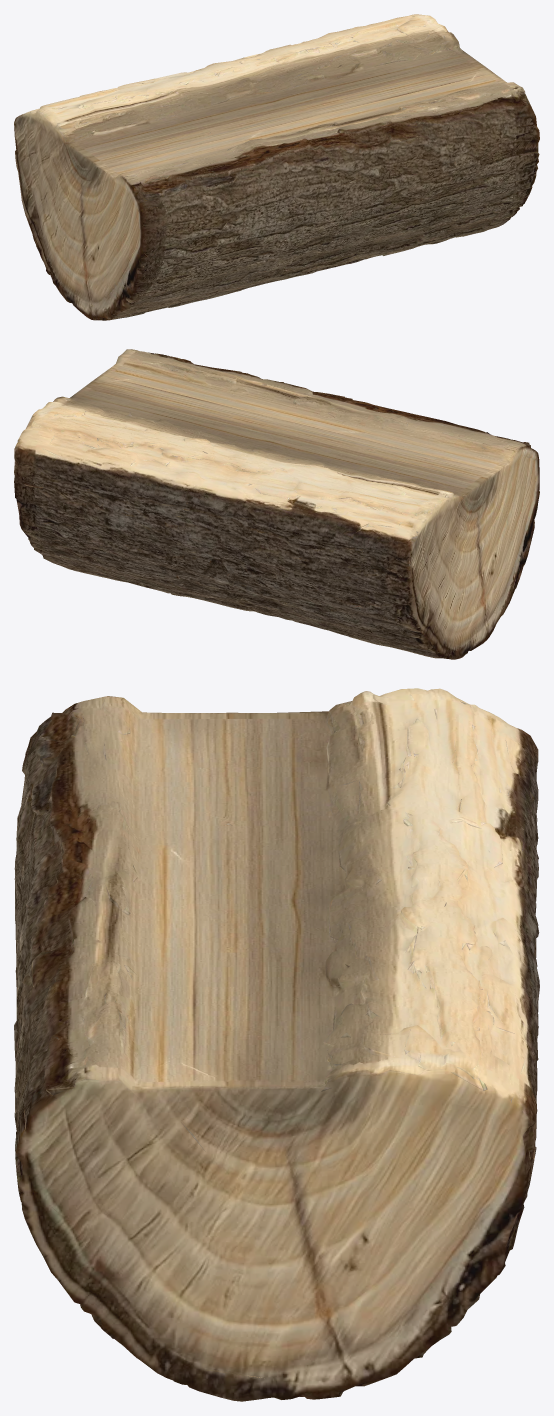
The model's file is half_a.glb.
3 views of the same model, one above another, from view 1: azimuth 30°, elevation 25°; view 2: azimuth 150°, elevation 25°; view 3: azimuth 270°, elevation 25° (orthographic). The views are drawn at different scales.
Visible parts, largest first — view 1: Mesh1.0; view 2: Mesh1.0; view 3: Mesh1.0.
Boxes of the visible parts, x1,y1,x2,y2 form: Mesh1.0: [14, 14, 539, 320]; Mesh1.0: [14, 349, 539, 659]; Mesh1.0: [14, 688, 539, 1401].
Bounding box in the file's own units: 1.91 × 0.8189 × 1.12.
1 material, 1 textured.
